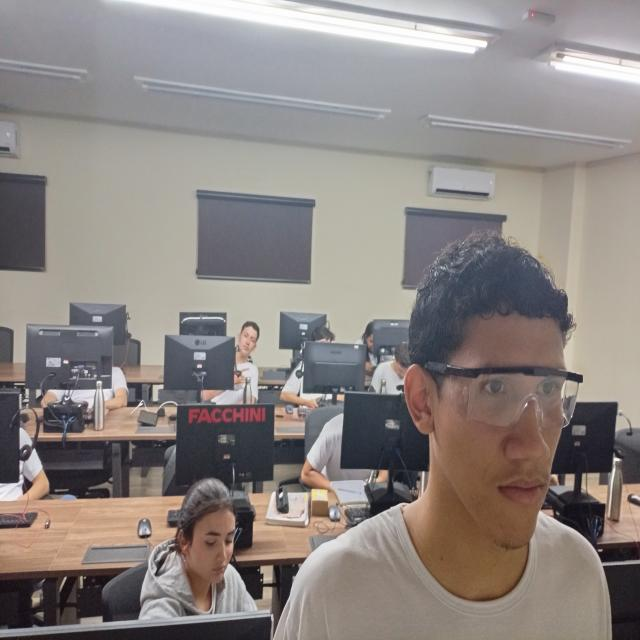oculos-epi: (424, 362, 583, 432)
sem_oculos: (181, 523, 237, 557), (232, 328, 264, 352)
